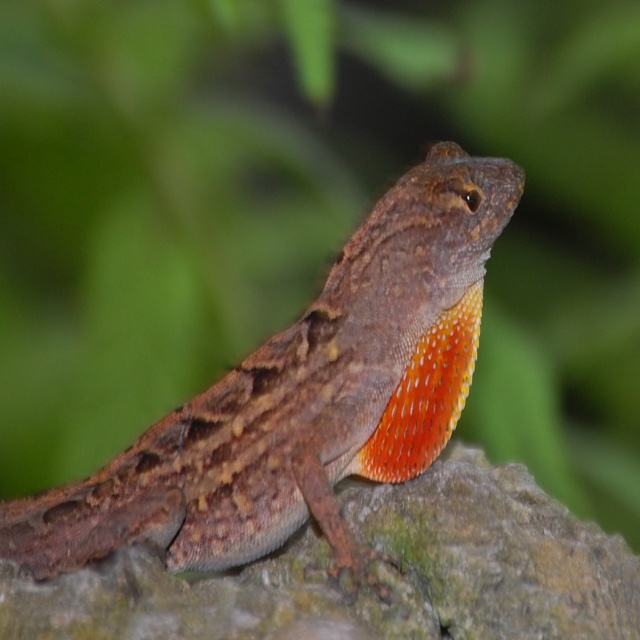Lizard: (0, 141, 526, 606)
